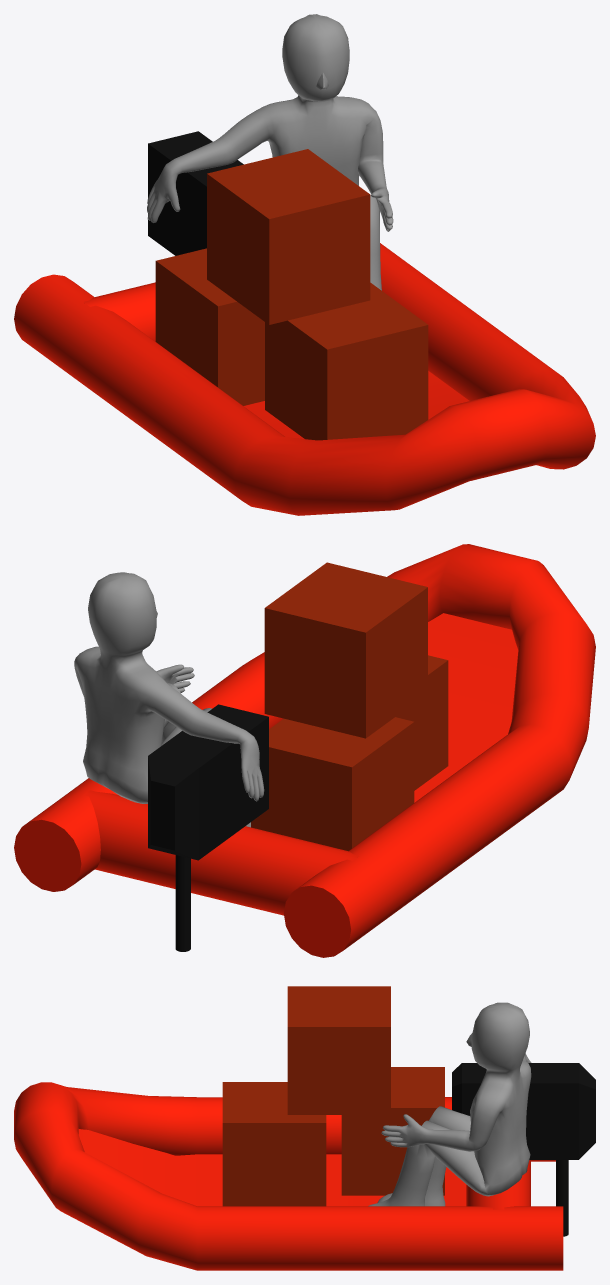
File: boat.fbx
3 views of the same model, one above another, from view 1: azimuth 30°, elevation 25°; view 2: azimuth 150°, elevation 25°; view 3: azimuth 270°, elevation 25° (orthographic). The views are drawn at different scales.
Visible parts, largest first — view 1: Cylinder004, Crate002, Crate001, Human, Cylinder002, Crate, Box001, Cylinder003, Line001; view 2: Cylinder004, Crate002, Human, Crate, Cylinder002, Cylinder003, Box001, Line001, Crate001, Cylinder005; view 3: Cylinder002, Human, Crate002, Crate001, Cylinder004, Box001, Line001, Crate, Cylinder003, Cylinder005.
Part boxes in pixels (x1=…): Cylinder004: x1=14, y1=274, x2=513, y2=515; Crate002: x1=207, y1=149, x2=370, y2=324; Crate001: x1=265, y1=282, x2=428, y2=440; Human: x1=147, y1=14, x2=393, y2=290; Cylinder002: x1=380, y1=243, x2=595, y2=472; Crate: x1=155, y1=248, x2=264, y2=405; Box001: x1=148, y1=131, x2=243, y2=255; Cylinder003: x1=83, y1=282, x2=155, y2=341; Line001: x1=243, y1=371, x2=469, y2=438; Cylinder004: x1=283, y1=552, x2=595, y2=957; Crate002: x1=264, y1=562, x2=427, y2=738; Human: x1=74, y1=572, x2=264, y2=827; Crate: x1=251, y1=717, x2=414, y2=851; Cylinder002: x1=14, y1=544, x2=503, y2=891; Cylinder003: x1=83, y1=790, x2=359, y2=915; Box001: x1=148, y1=704, x2=268, y2=860; Line001: x1=414, y1=613, x2=518, y2=802; Crate001: x1=396, y1=655, x2=448, y2=790; Cylinder005: x1=175, y1=855, x2=190, y2=951; Cylinder002: x1=14, y1=1096, x2=563, y2=1270; Human: x1=368, y1=1002, x2=531, y2=1206; Crate002: x1=287, y1=986, x2=390, y2=1114; Crate001: x1=222, y1=1082, x2=326, y2=1206; Cylinder004: x1=14, y1=1082, x2=555, y2=1161; Box001: x1=452, y1=1063, x2=595, y2=1159; Line001: x1=78, y1=1129, x2=466, y2=1206; Crate: x1=341, y1=1067, x2=444, y2=1195; Cylinder003: x1=466, y1=1160, x2=530, y2=1209; Cylinder005: x1=556, y1=1160, x2=568, y2=1236.
Bounding box in the file's own units: 197 × 180 × 355.
